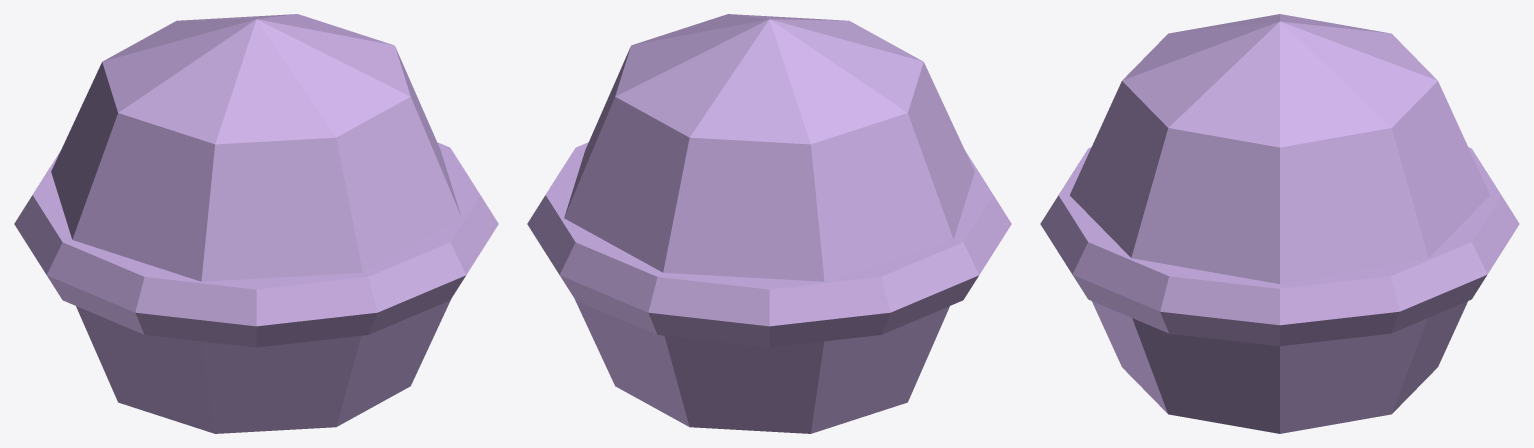
File: shadow_projectile_flat.glb
3 renders of one model, left to right at view 1: azimuth 30°, elevation 25°; view 2: azimuth 150°, elevation 25°; view 3: azimuth 270°, elevation 25°, orthographic.
Parts seen in each view (by area): view 1: ShadowGlow, ShadowRing; view 2: ShadowGlow, ShadowRing; view 3: ShadowGlow, ShadowRing.
Boxes of the visible parts, box(x1,y1,x2,y2) form: ShadowGlow: box(51, 14, 461, 433); ShadowRing: box(14, 142, 498, 347); ShadowGlow: box(564, 14, 974, 433); ShadowRing: box(527, 142, 1011, 347); ShadowGlow: box(1070, 14, 1489, 433); ShadowRing: box(1040, 147, 1519, 346).
Size of the model in its own units: 0.236 by 0.22 by 0.236.
